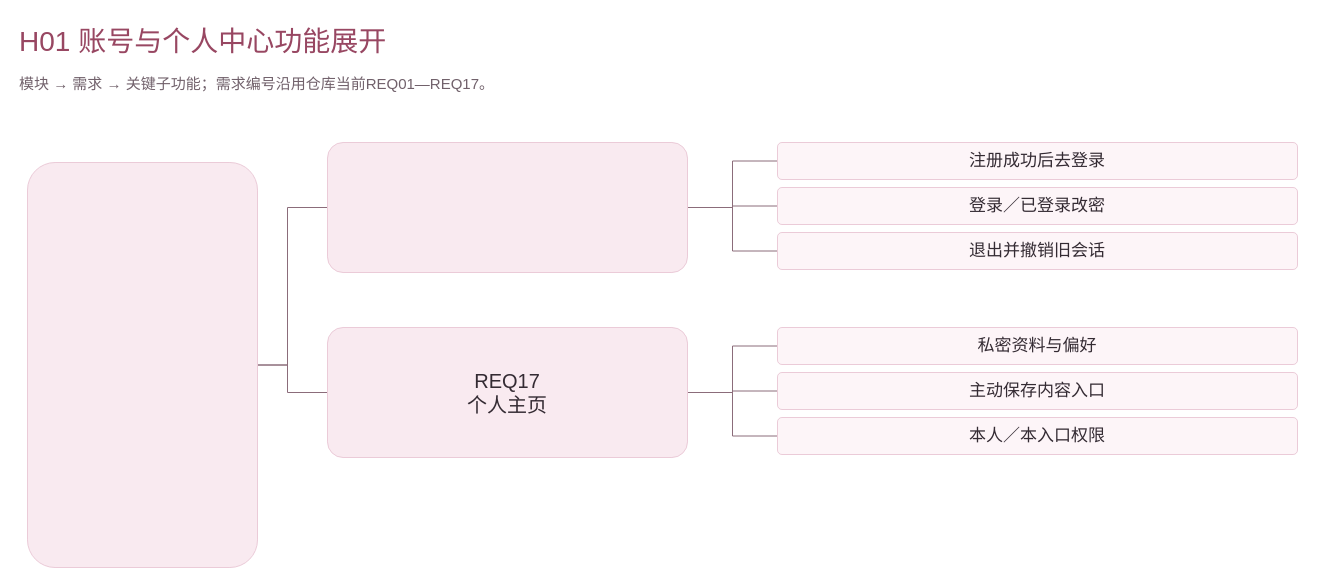
This 1334x585 diagram has some shape labels left out. The centre of each missing label's shape, as x and y in pixels:
"REQ16 注册与登录" belongs at (507,207).
"账号与个人中心" belongs at (142,365).
